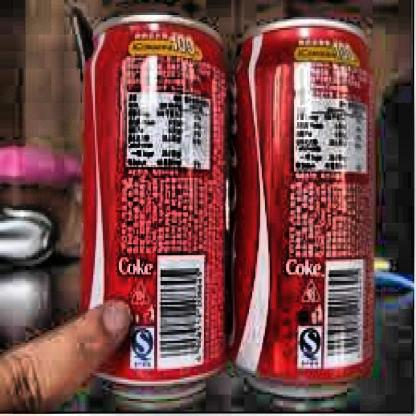Can: (78, 12, 232, 406), (229, 17, 381, 398)
